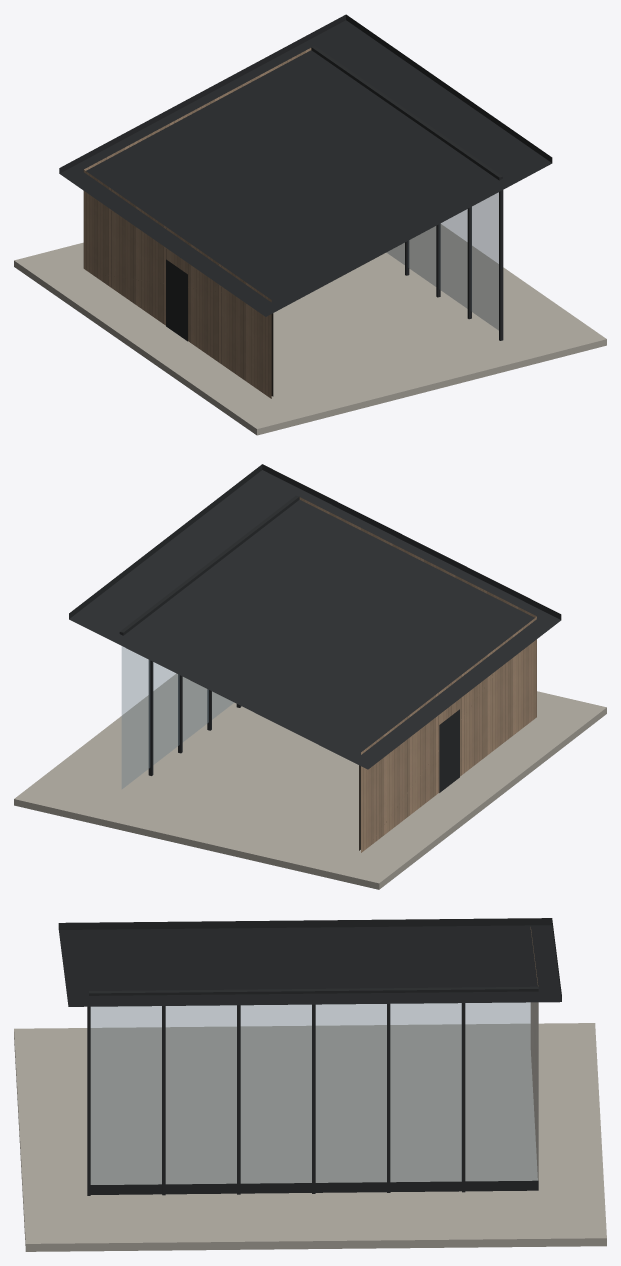
File: pukaki-visitor-centre.glb
The picture shows the model from 3 angles, top to bottom: view 1: azimuth 30°, elevation 25°; view 2: azimuth 150°, elevation 25°; view 3: azimuth 270°, elevation 25°; orthographic projection. The views are drawn at different scales.
Visible parts, largest first — view 1: Pukaki_visitor_centre; view 2: Pukaki_visitor_centre; view 3: Pukaki_visitor_centre.
Boxes of the visible parts, x1=… form: Pukaki_visitor_centre: x1=14, y1=14, x2=606, y2=435; Pukaki_visitor_centre: x1=14, y1=464, x2=606, y2=889; Pukaki_visitor_centre: x1=14, y1=918, x2=606, y2=1251.
Size of the model in its own units: 11.91 by 5.77 by 13.51.
6 materials, 2 textured.
